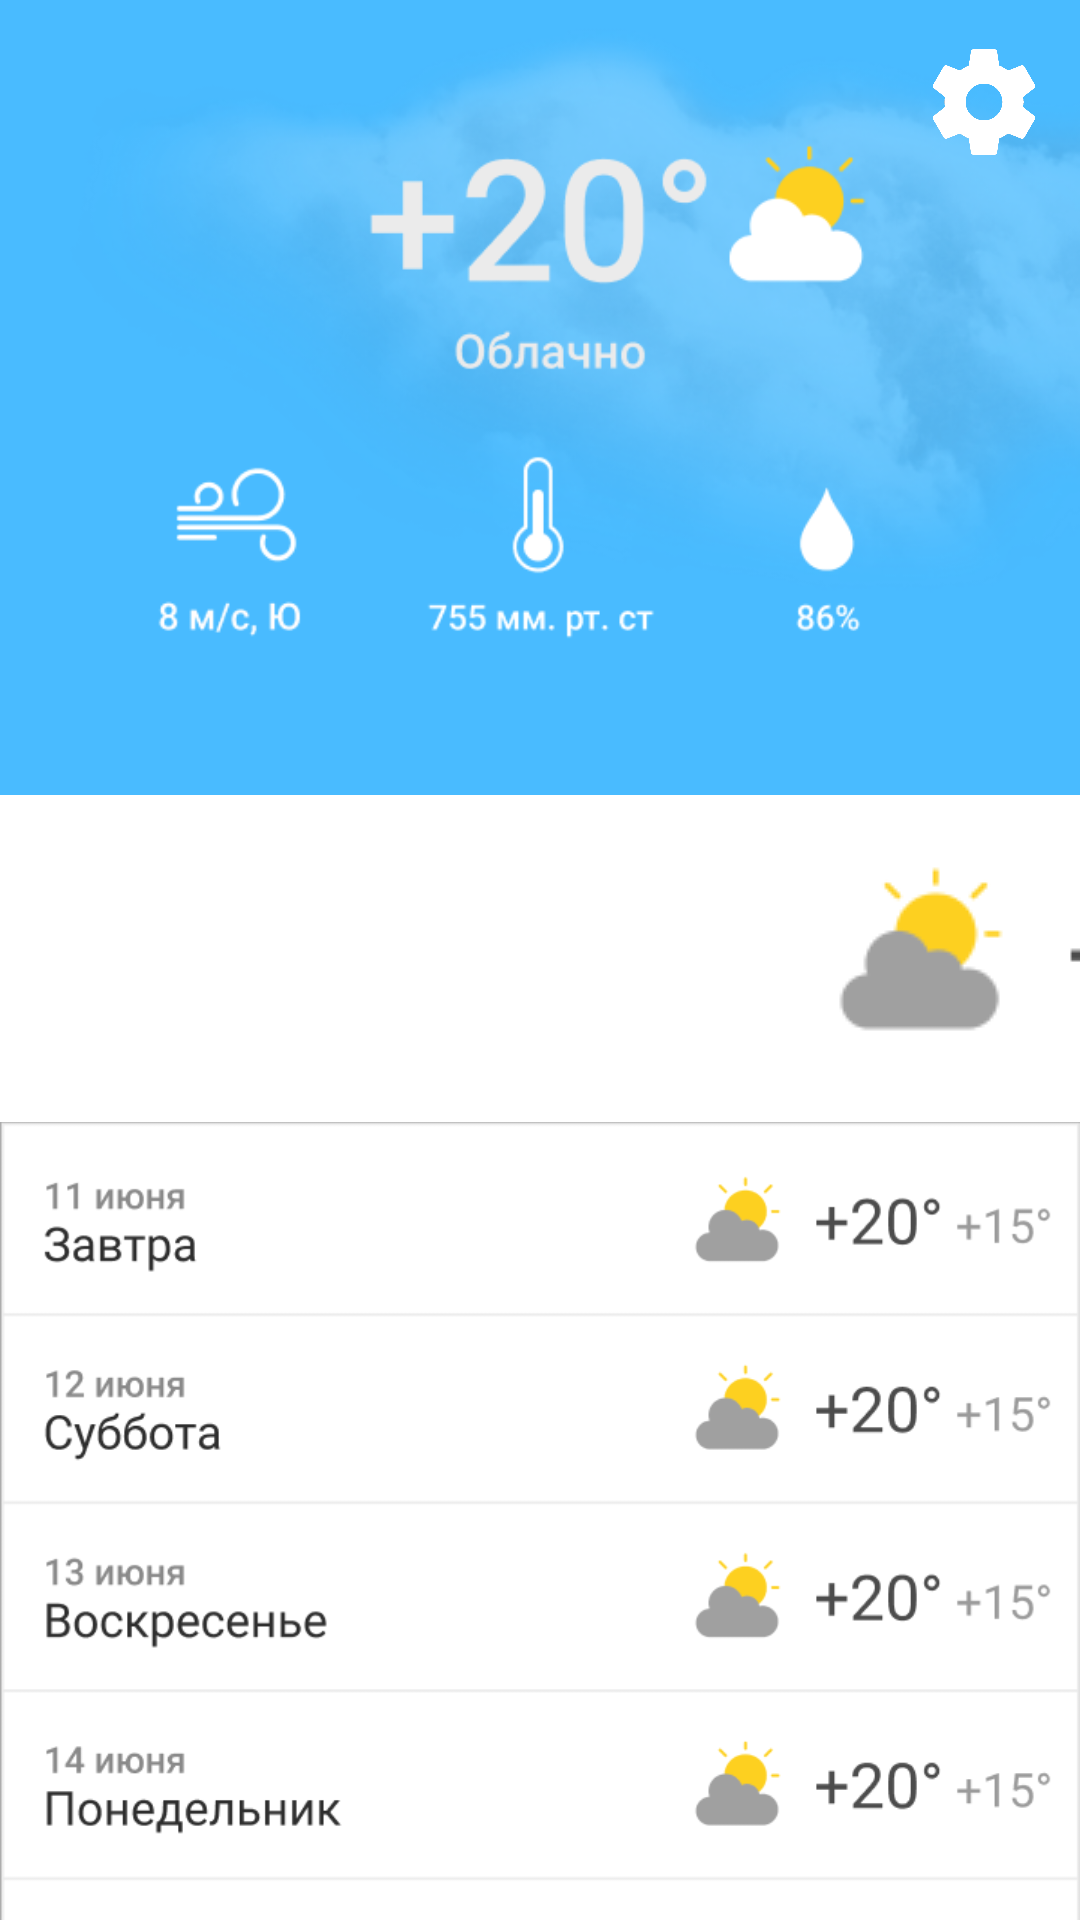

Locate icon controls on the screen. Image size 1080x1920, boxes as bbox=[x1, y1, x2, y2].
settings: bbox=[930, 49, 1038, 156]
